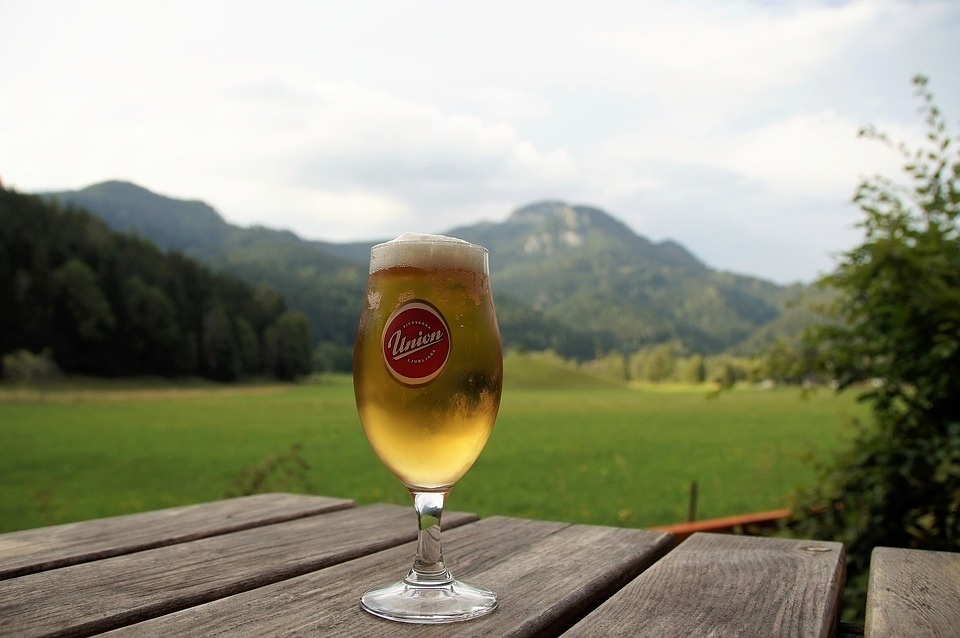whiskey: (340, 240, 516, 583)
